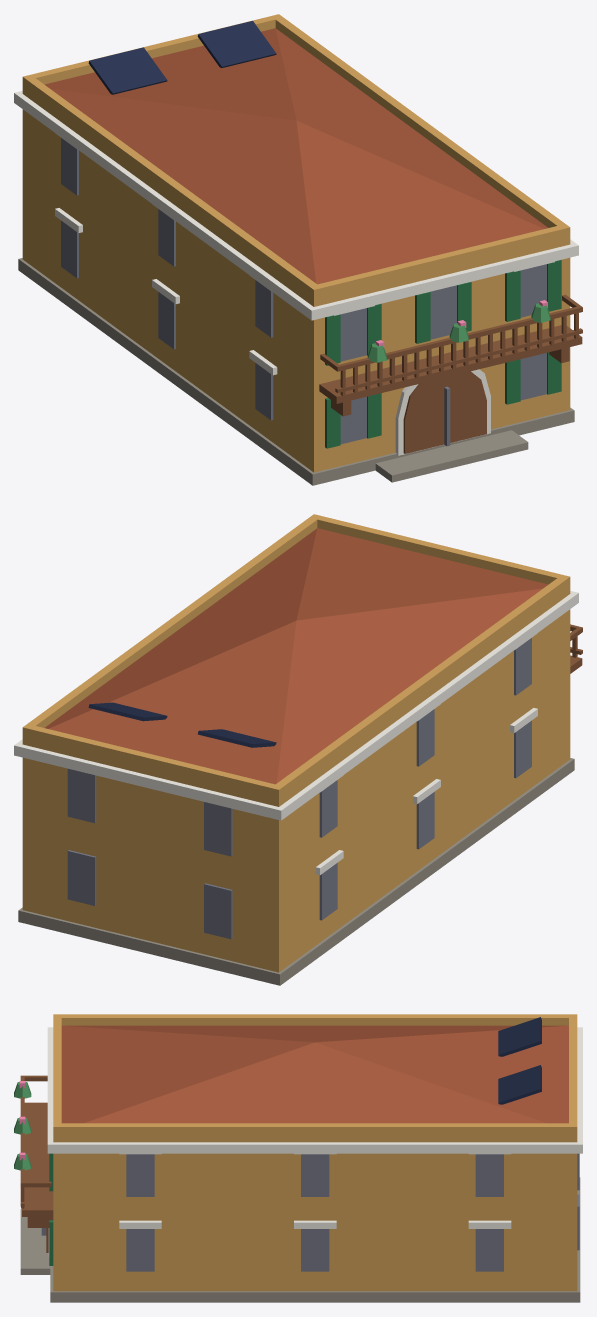
File: house-1x2-2f-colonial-a-solar.glb
3 views of the same model, one above another, from view 1: azimuth 30°, elevation 25°; view 2: azimuth 150°, elevation 25°; view 3: azimuth 270°, elevation 25° (orthographic). The views are drawn at different scales.
Visible parts, largest first — view 1: house-1x2-2f-colonial-a-solar; view 2: house-1x2-2f-colonial-a-solar; view 3: house-1x2-2f-colonial-a-solar.
Part boxes in pixels (<box>): house-1x2-2f-colonial-a-solar: <box>14,14,582,485</box>; house-1x2-2f-colonial-a-solar: <box>14,514,582,985</box>; house-1x2-2f-colonial-a-solar: <box>14,1014,582,1302</box>.
Size of the model in its own units: 0.98 by 0.79 by 2.01.
1 material, 1 textured.
